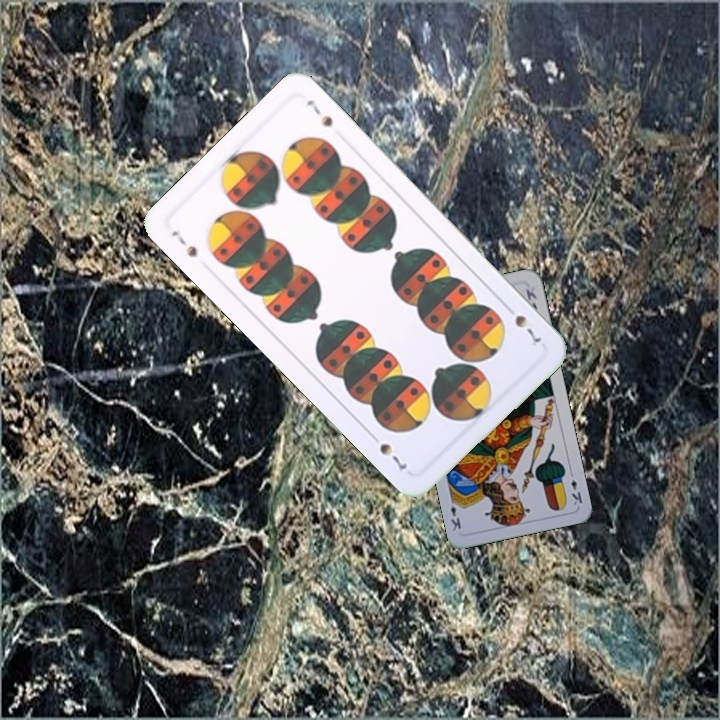EK: (566, 467, 585, 508)
S7: (501, 300, 545, 346), (167, 226, 200, 260)
